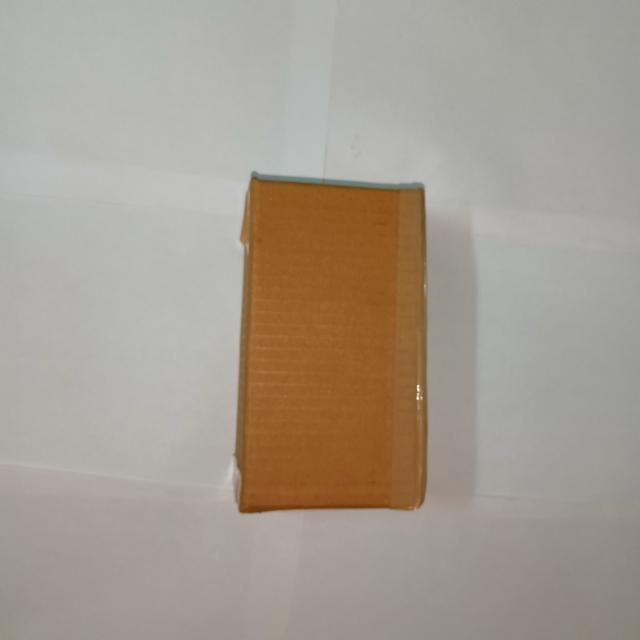box: (250, 178, 428, 511)
